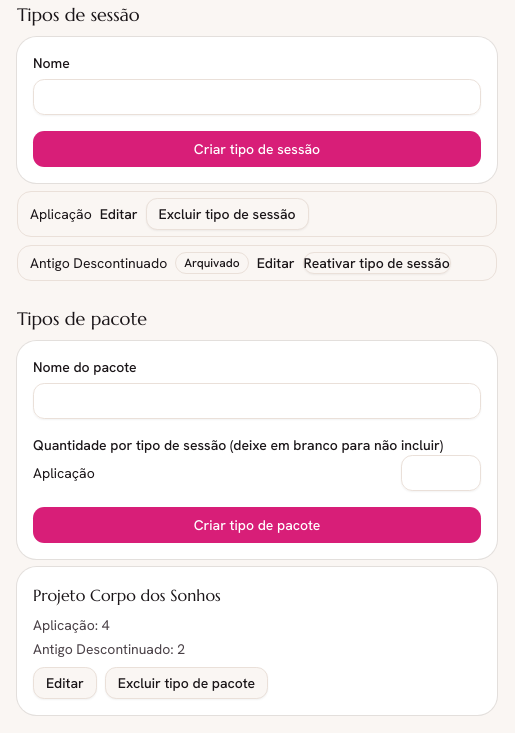
PacotesPage › editar, excluir e reativar tipo de pacote › editar um pacote com tipo de sessão arquivado continua mostrando esse tipo na edição (não some em silêncio)
(page scrolled)
Click the button with aria-label "editar tipo de pacote": (65, 683) [33,667,97,699]
(page scrolled)
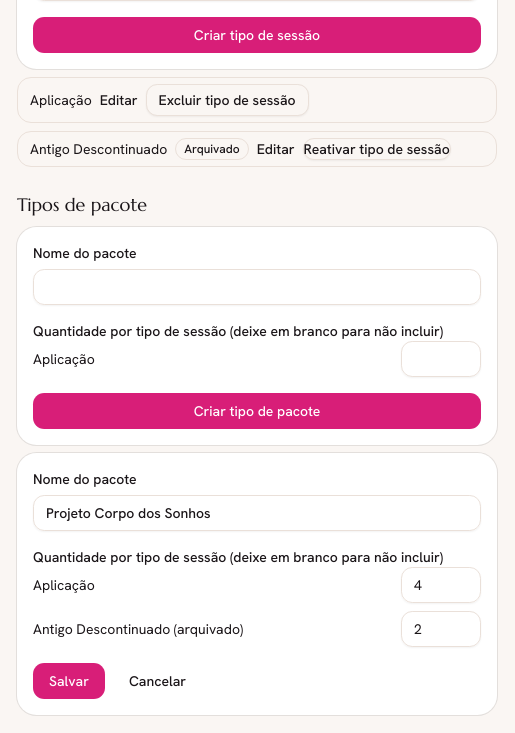
Expected: the text "Antigo Descontinuado (arquivado)" is shown, [33,611,481,647]
Expected: the number field labelled "Antigo Descontinuado (arquivado)" holds "2", [401,611,481,647]
